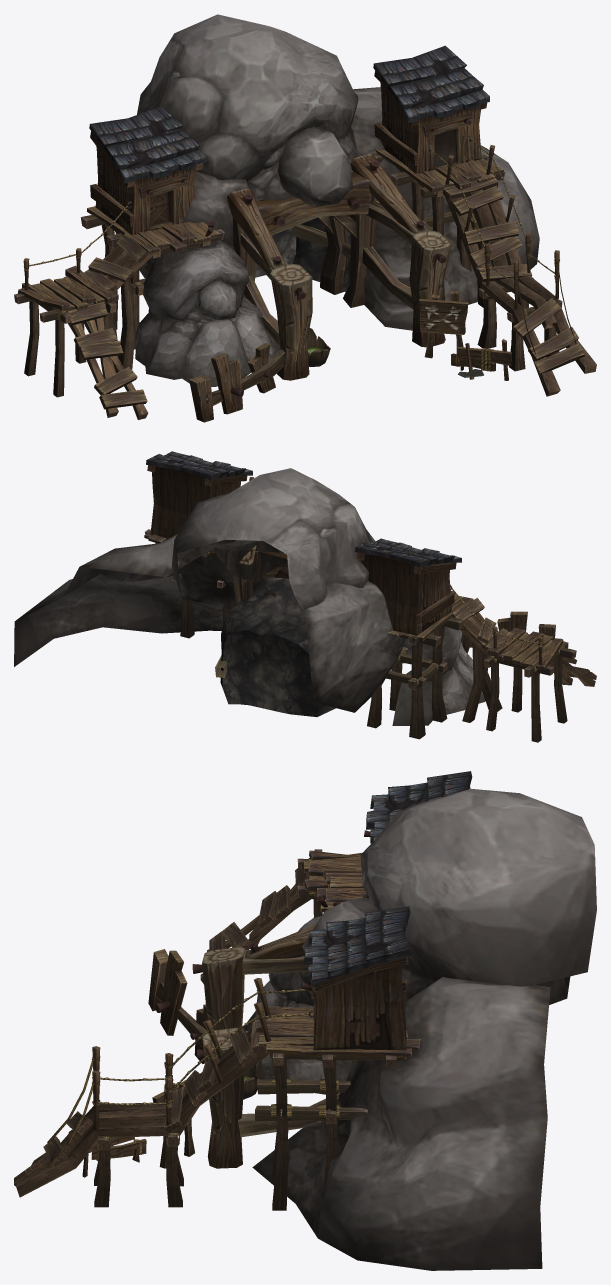
The model's file is lumina_entrance.FBX.
The picture shows the model from 3 angles, top to bottom: view 1: azimuth 30°, elevation 25°; view 2: azimuth 150°, elevation 25°; view 3: azimuth 270°, elevation 25°; orthographic projection. The views are drawn at different scales.
Parts seen in each view (by area): view 1: lumina_entrance; view 2: lumina_entrance; view 3: lumina_entrance.
Boxes of the visible parts, bbox=[...] form: lumina_entrance: bbox=[14, 14, 596, 422]; lumina_entrance: bbox=[14, 451, 596, 742]; lumina_entrance: bbox=[14, 771, 596, 1270].
Bounding box in the file's own units: 21.48 × 10.13 × 16.51.
